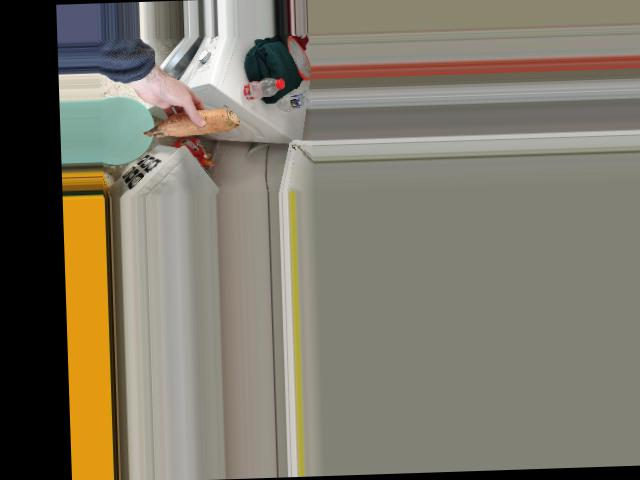sweet_potato: (141, 101, 245, 144)
